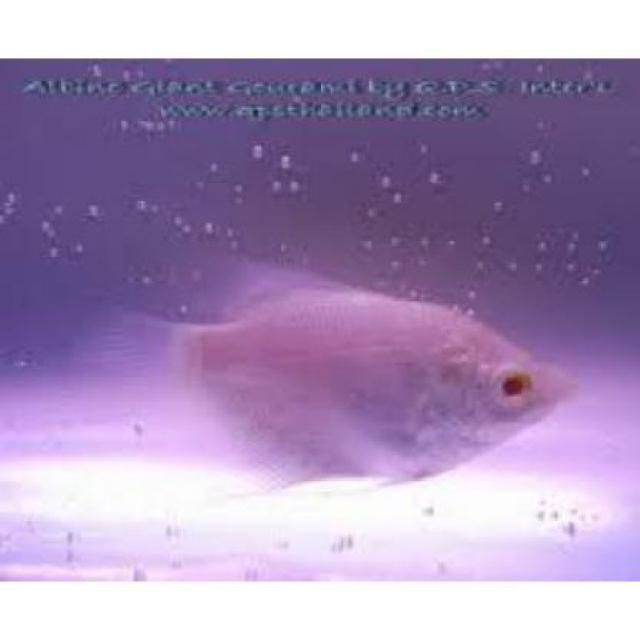gurame: (76, 261, 578, 502)
